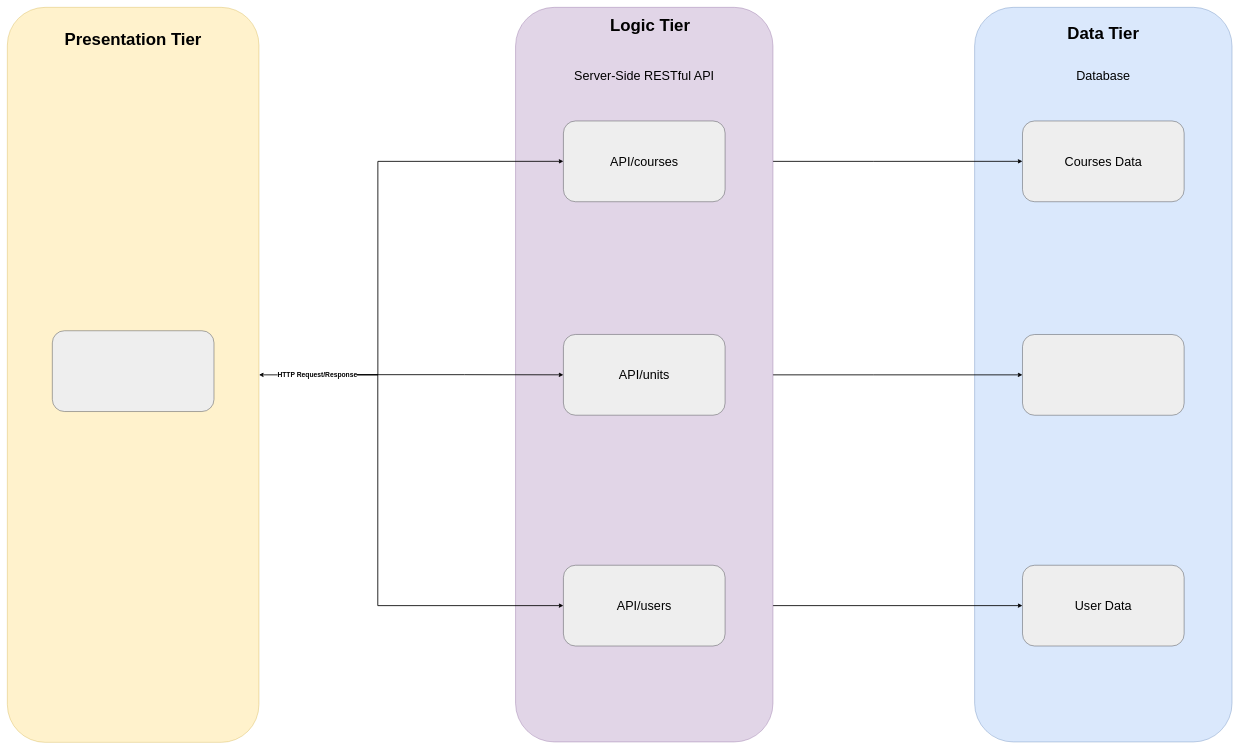
The diagram is 1239 pixels wide and 750 high, and some of its shapes have lost their labels. The shapes that lost their labels are listed below. From the top down, each one's box as (x1, y1, x2, y2) in pixels, then its label:
(52, 330, 214, 412): Client-side web-based user interface
(1022, 334, 1184, 415): Units Data
